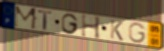G: (128, 22, 148, 45), (60, 12, 79, 35)
H: (80, 13, 102, 41)
K: (109, 19, 125, 42)
M: (13, 5, 39, 31)
T: (38, 10, 53, 32)
